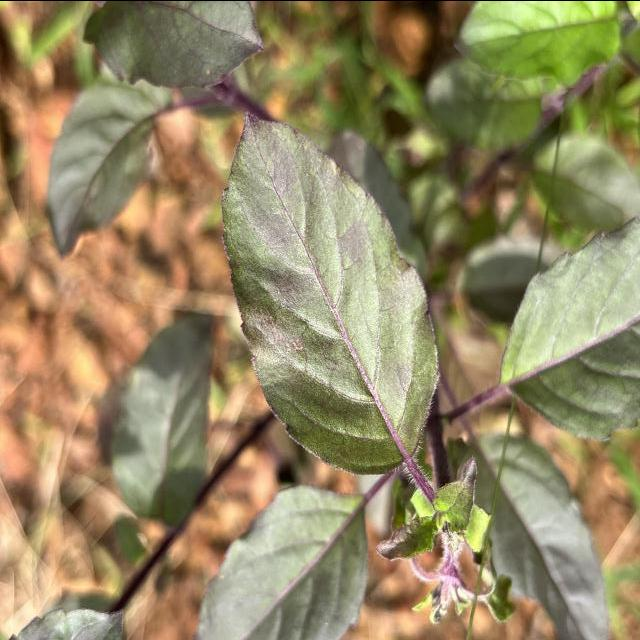Ocimum tenuiflorum: (217, 102, 444, 481)
